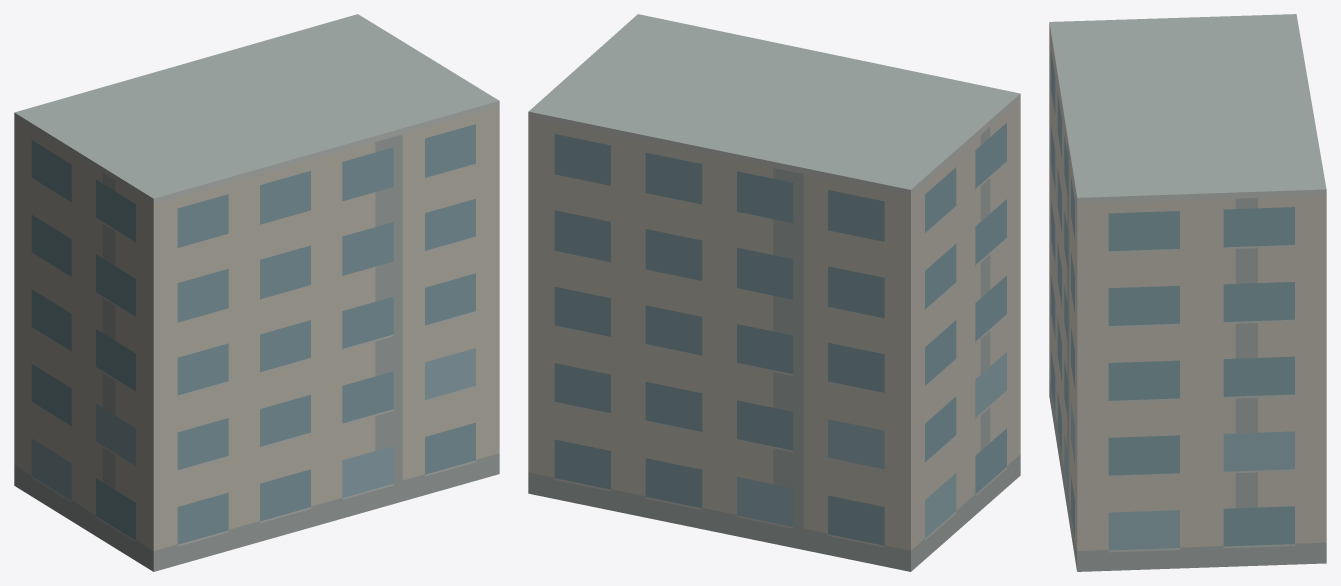
File: survey-upis-32938807.glb
3 renders of one model, left to right at view 1: azimuth 30°, elevation 25°; view 2: azimuth 150°, elevation 25°; view 3: azimuth 270°, elevation 25°, orthographic. The views are drawn at different scales.
Visible parts, largest first — view 1: survey-upis-32938807.tmp; view 2: survey-upis-32938807.tmp; view 3: survey-upis-32938807.tmp.
Part boxes in pixels (x1,y1,x2,y2): survey-upis-32938807.tmp: (14,14,499,571); survey-upis-32938807.tmp: (528,14,1020,571); survey-upis-32938807.tmp: (1049,14,1326,571).
Size of the model in its own units: 15.72 by 14.9 by 10.02.
